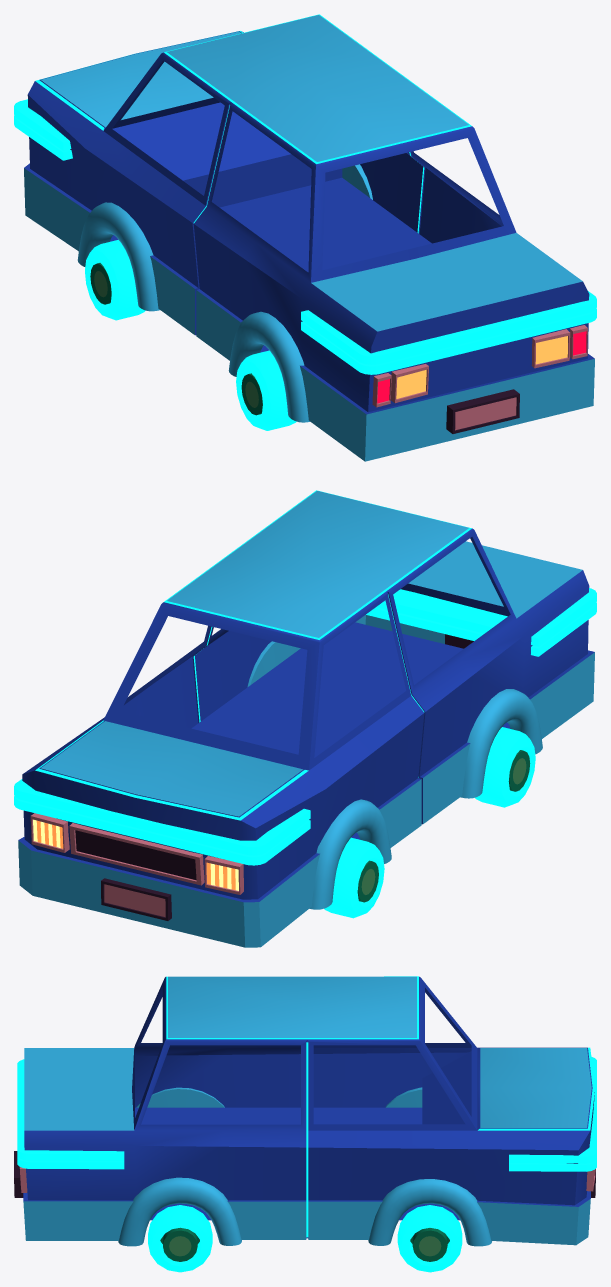
The model's file is car_4.fbx.
The picture shows the model from 3 angles, top to bottom: view 1: azimuth 30°, elevation 25°; view 2: azimuth 150°, elevation 25°; view 3: azimuth 270°, elevation 25°; orthographic projection. The views are drawn at different scales.
Visible parts, largest first — view 1: Cube.029, Cube.031, Cube.063, Cylinder.009, Cube.060, Cube.061, Cube.059, Cube.062; view 2: Cube.029, Cube.031, Cube.059, Cylinder.009, Cube.063, Cube.057, Cube.058, Cube.056; view 3: Cube.029, Cube.031, Cylinder.009, Cube.063, Cube.059.
Boxes of the visible parts, x1,y1,x2,y2 form: Cube.029: [24, 14, 594, 461]; Cube.031: [77, 164, 372, 422]; Cube.063: [301, 291, 596, 374]; Cylinder.009: [85, 240, 296, 430]; Cube.060: [390, 329, 570, 403]; Cube.061: [446, 389, 519, 433]; Cube.059: [14, 99, 72, 160]; Cube.062: [372, 325, 587, 407]; Cube.029: [18, 490, 594, 947]; Cube.031: [247, 641, 542, 909]; Cube.059: [14, 779, 310, 865]; Cylinder.009: [324, 727, 535, 918]; Cube.063: [366, 588, 596, 656]; Cube.057: [69, 823, 204, 885]; Cube.058: [30, 813, 243, 894]; Cube.056: [101, 878, 171, 920]; Cube.029: [23, 976, 594, 1245]; Cube.031: [118, 1087, 491, 1246]; Cylinder.009: [148, 1205, 462, 1272]; Cube.063: [17, 1059, 124, 1169]; Cube.059: [509, 1056, 596, 1171].
Size of the model in its own units: 222 by 203 by 500.
